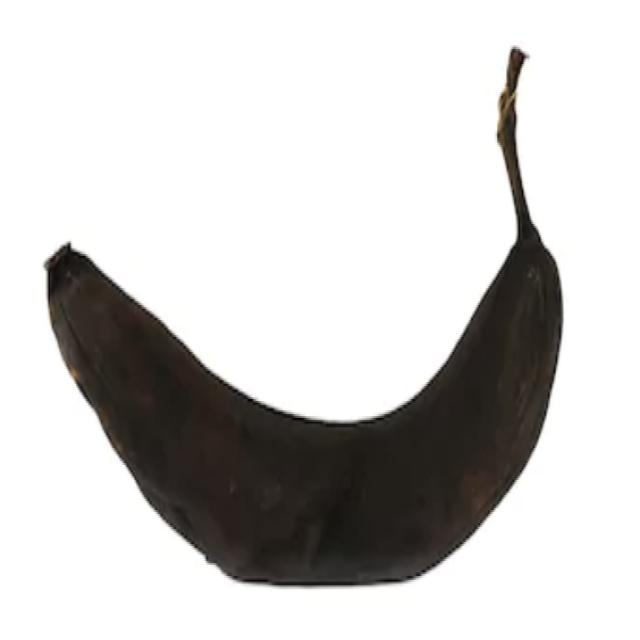rotten-banana: (43, 44, 564, 588)
